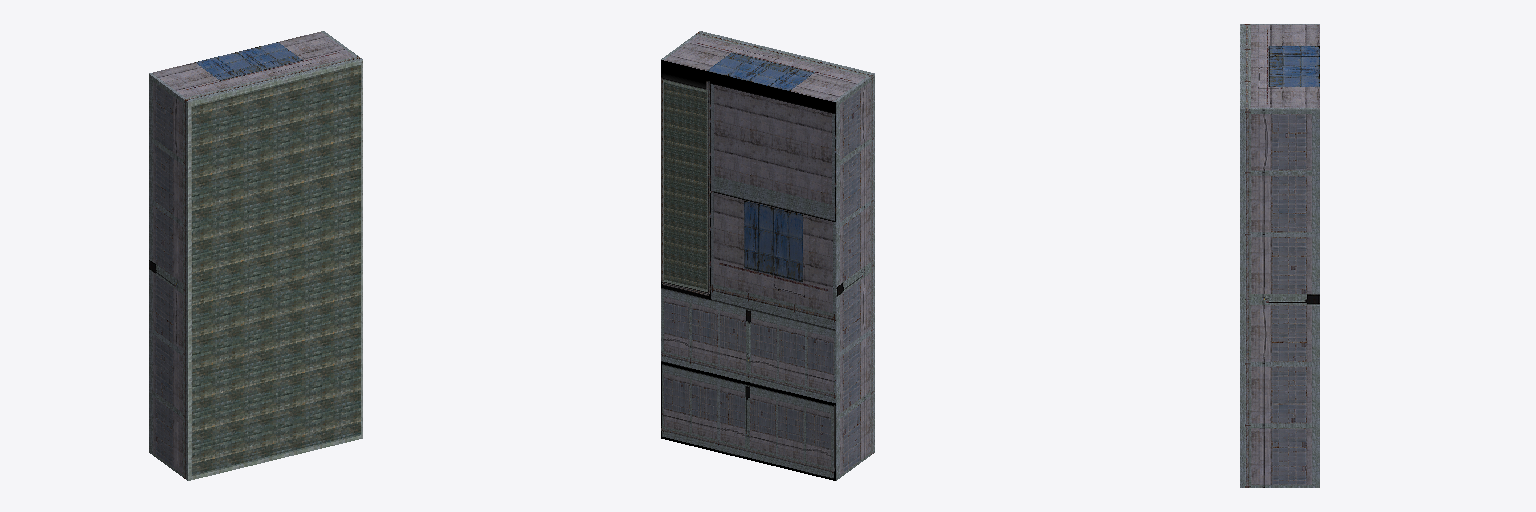
3 renders of one model, left to right at view 1: azimuth 30°, elevation 25°; view 2: azimuth 150°, elevation 25°; view 3: azimuth 270°, elevation 25°, orthographic.
Visible parts, largest first — view 1: MDL_cube1; view 2: MDL_cube1; view 3: MDL_cube1.
Part boxes in pixels (left/top/right/bottom): MDL_cube1: left=149, top=31, right=362, bottom=480; MDL_cube1: left=661, top=31, right=874, bottom=480; MDL_cube1: left=1240, top=24, right=1319, bottom=487.
Size of the model in its own units: 21.39 by 44.13 by 8.36.
1 materials, 1 textured.